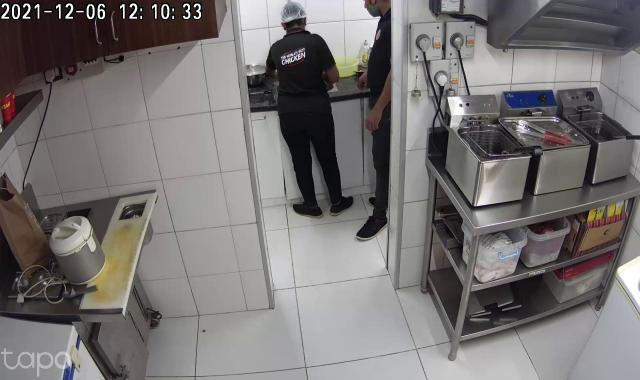hairnet: (277, 1, 313, 25)
